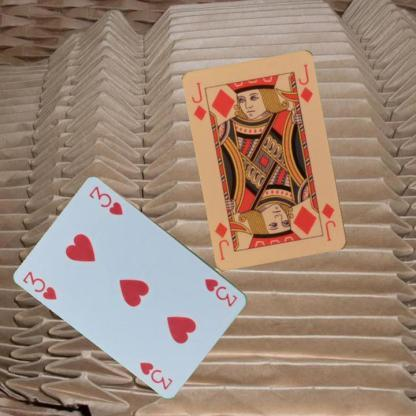3h: (20, 268, 59, 302), (202, 275, 238, 308)
Jd: (189, 80, 209, 122), (319, 201, 337, 243)
